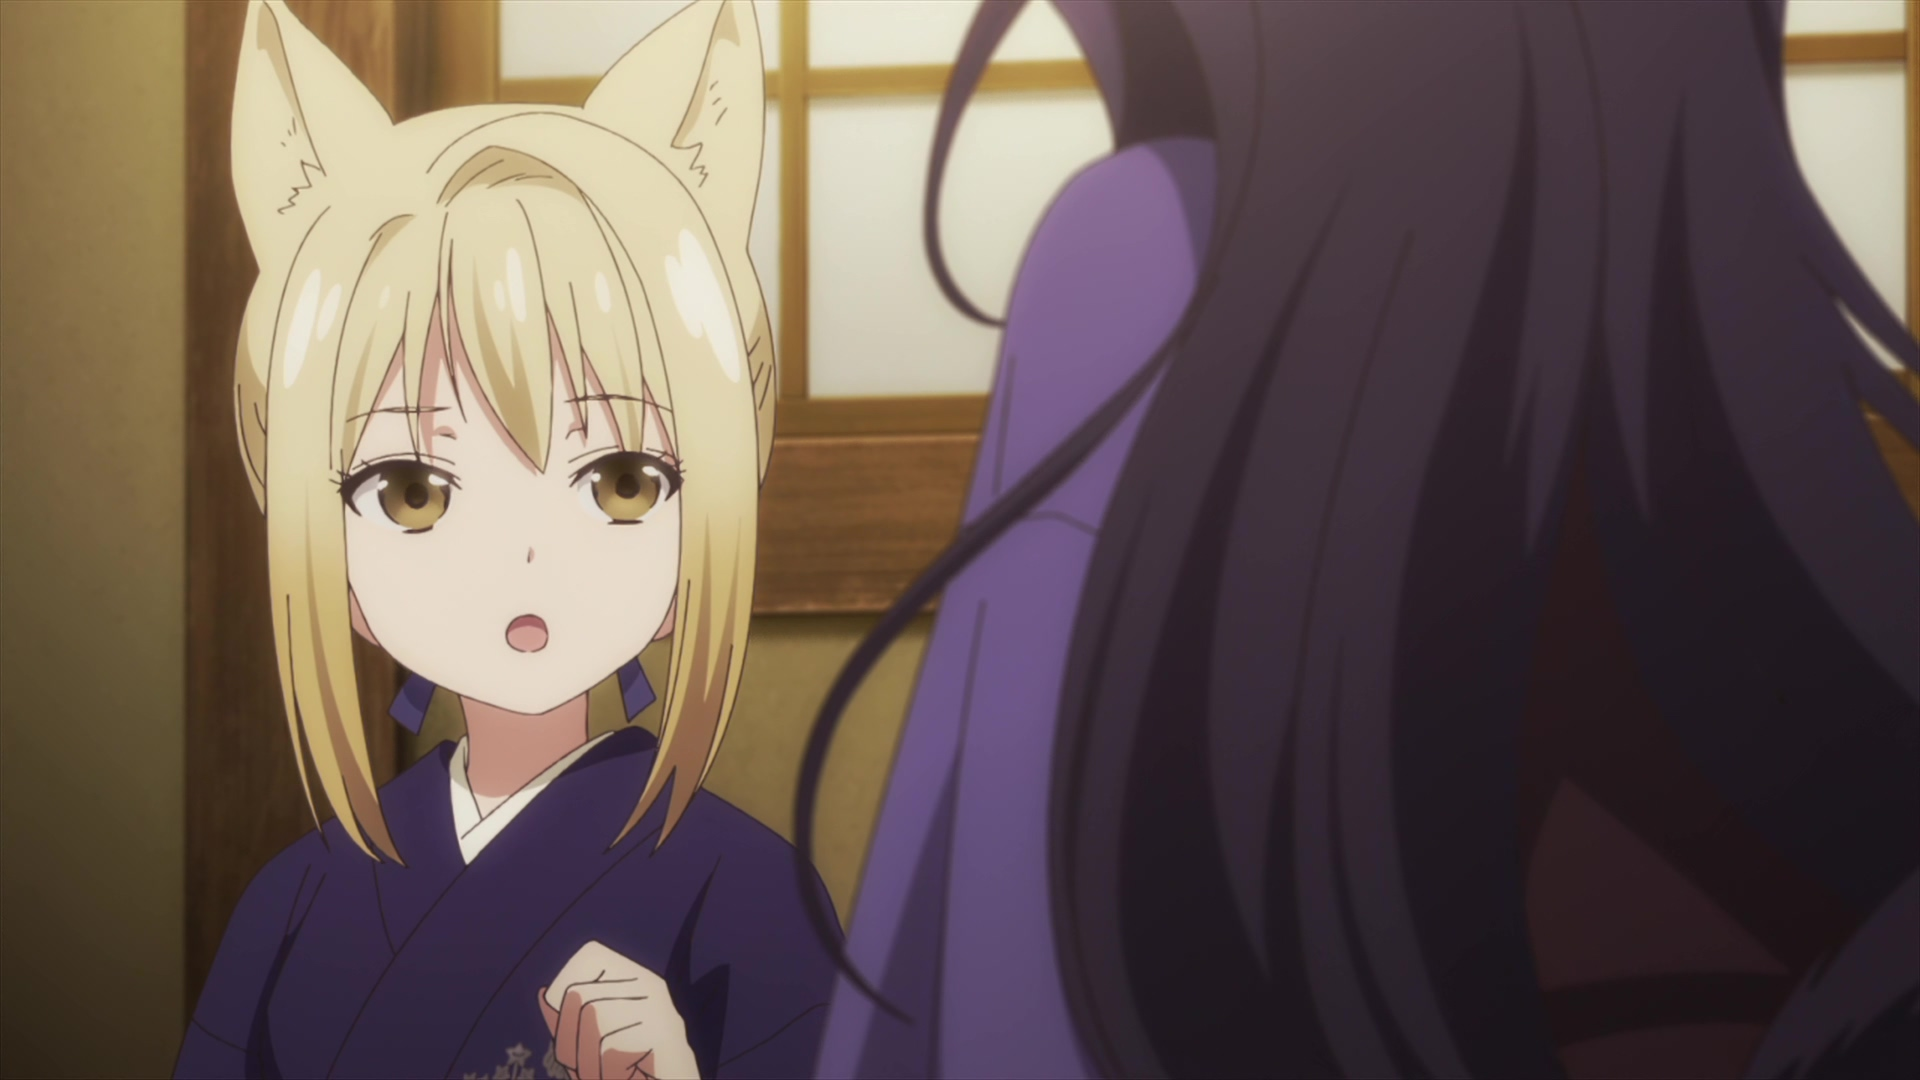桐: (174, 1, 845, 1080)
皋: (794, 1, 1920, 1080)
